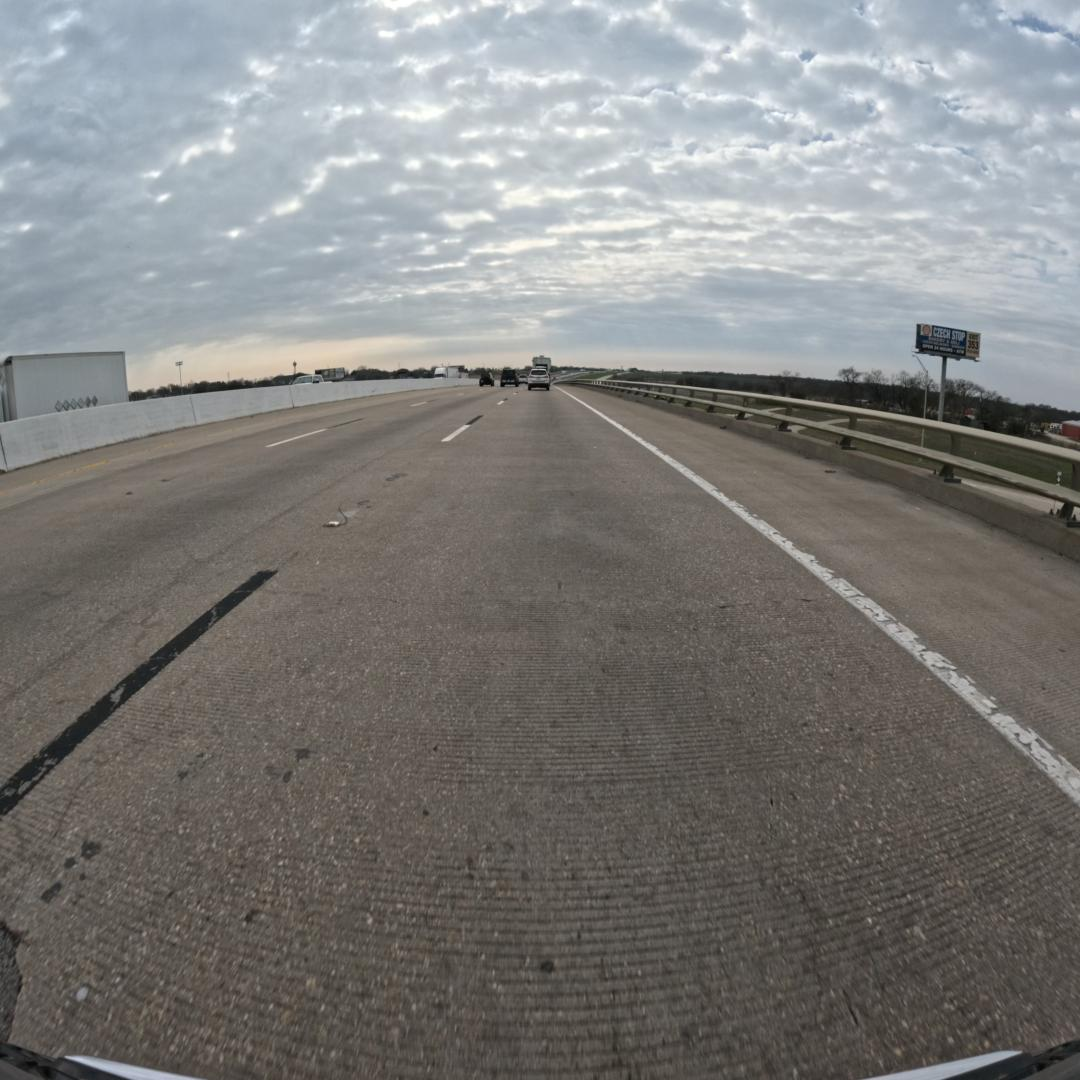lane0: (0, 388, 1080, 1080)
lane1: (0, 388, 522, 815)
